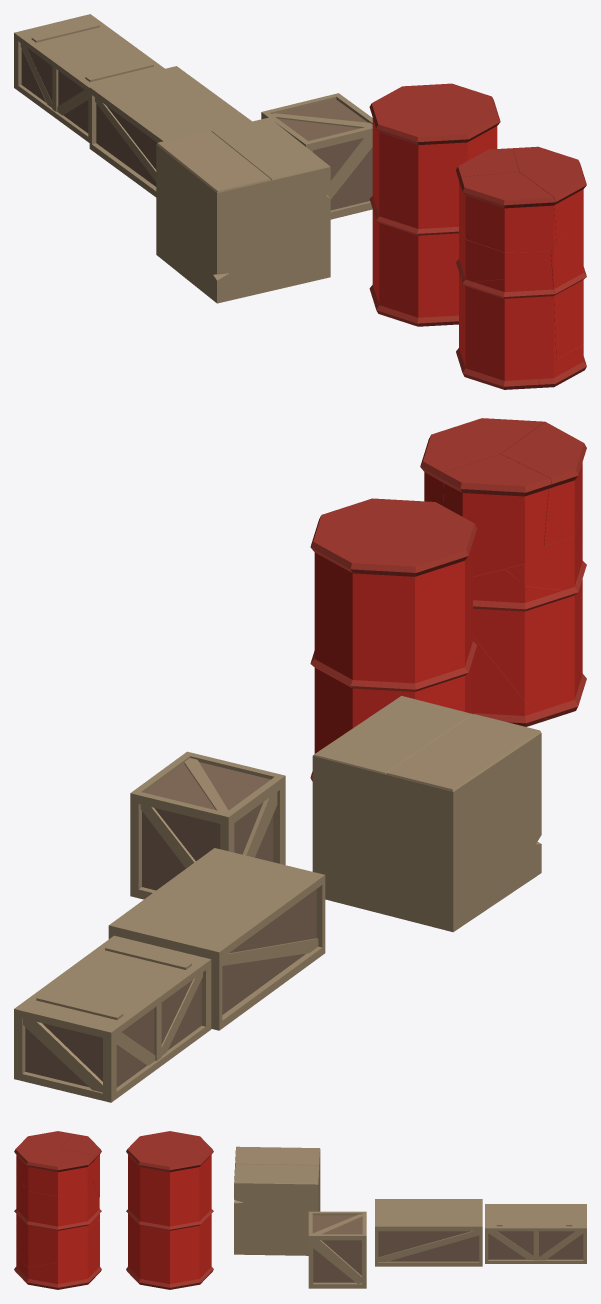
Rendered from crates.fbx.
3 renders of one model, top to bottom at view 1: azimuth 30°, elevation 25°; view 2: azimuth 150°, elevation 25°; view 3: azimuth 270°, elevation 25°, orthographic. The views are drawn at different scales.
Parts seen in each view (by area): view 1: CardboardBox, Barrel, Barrel.Gib.006, LongCrate, LongCrate w Cover, Crate, Barrel.Gib.002, Barrel.Gib.003, Barrel.Gib.001, Barrel.Gib, Barrel.Gib.005, Barrel.Gib.004; view 2: CardboardBox, Barrel, LongCrate w Cover, LongCrate, Crate, Barrel.Gib.006, Barrel.Gib.005, Barrel.Gib.002, Barrel.Gib.003, Barrel.Gib.004, Barrel.Gib; view 3: Barrel, CardboardBox, LongCrate, LongCrate w Cover, Barrel.Gib.001, Crate, Barrel.Gib.003, Barrel.Gib.004, Barrel.Gib.005, Barrel.Gib.002.
Boxes of the visible parts, x1,y1,x2,y2 form: CardboardBox: (156,117,330,303); Barrel: (369,83,500,326); Barrel.Gib.006: (456,248,556,389); LongCrate: (89,66,251,197); LongCrate w Cover: (14,14,164,142); Crate: (261,93,372,219); Barrel.Gib.002: (459,172,555,252); Barrel.Gib.003: (512,146,586,240); Barrel.Gib.001: (550,226,586,359); Barrel.Gib: (459,227,534,285); Barrel.Gib.005: (456,148,519,227); Barrel.Gib.004: (456,336,586,388); CardboardBox: (312,696,541,932); Barrel: (310,498,476,781); LongCrate w Cover: (14,935,211,1102); LongCrate: (108,848,325,1030); Crate: (130,751,285,899); Barrel.Gib.006: (473,546,586,719); Barrel.Gib.005: (441,454,551,576); Barrel.Gib.002: (501,421,586,545); Barrel.Gib.003: (420,418,544,505); Barrel.Gib.004: (473,636,548,726); Barrel.Gib: (506,511,582,594); Barrel: (126,1131,213,1289); CardboardBox: (234,1146,320,1255); LongCrate: (375,1199,482,1266); LongCrate w Cover: (485,1204,586,1263); Barrel.Gib.001: (14,1180,101,1267); Crate: (308,1211,366,1288); Barrel.Gib.003: (14,1149,95,1196); Barrel.Gib.004: (14,1221,101,1289); Barrel.Gib.005: (61,1133,101,1197); Barrel.Gib.002: (14,1131,72,1180).
Bounding box in the file's own units: 206 × 165 × 698.
